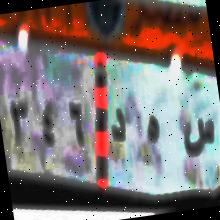3: (5, 95, 36, 154)
4: (35, 98, 65, 157)
6: (64, 91, 94, 153)
daal: (104, 105, 134, 152)
haa: (137, 113, 167, 162)
seen: (173, 114, 220, 167)
